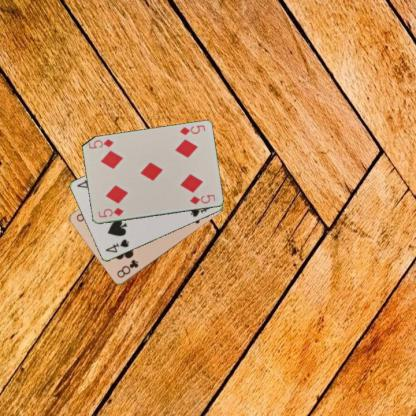4s: (103, 237, 130, 254)
5d: (96, 205, 124, 219), (176, 123, 206, 136)
8c: (114, 257, 140, 279)
